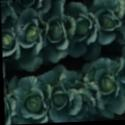cabbage: (49, 24, 66, 43), (101, 75, 117, 95), (80, 18, 91, 40), (102, 13, 117, 29), (24, 96, 39, 112), (25, 27, 39, 44), (1, 31, 14, 47), (51, 93, 65, 107), (4, 103, 10, 120), (20, 0, 33, 6), (124, 64, 125, 80)
